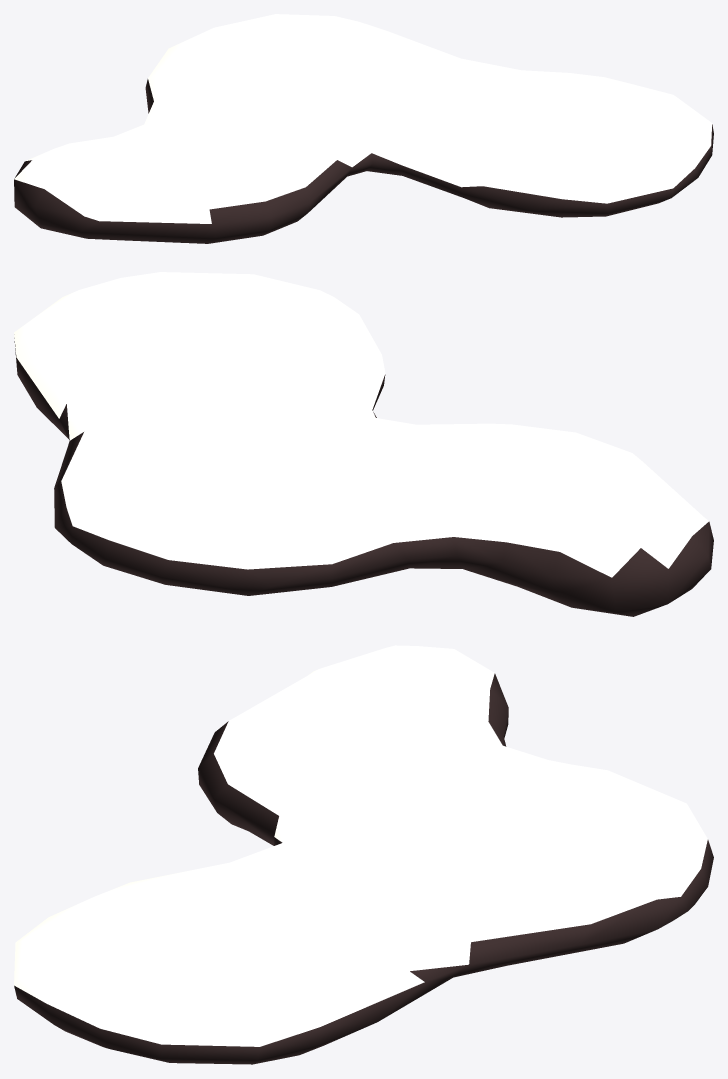
The model's file is puddle_01c.glb.
3 renders of one model, top to bottom at view 1: azimuth 30°, elevation 25°; view 2: azimuth 150°, elevation 25°; view 3: azimuth 270°, elevation 25°, orthographic. The views are drawn at different scales.
Visible parts, largest first — view 1: EA_Puddle_01c; view 2: EA_Puddle_01c; view 3: EA_Puddle_01c.
Boxes of the visible parts, x1,y1,x2,y2 form: EA_Puddle_01c: (14, 14, 713, 243); EA_Puddle_01c: (14, 272, 713, 616); EA_Puddle_01c: (14, 645, 713, 1064).
Bounding box in the file's own units: 5.15 × 0.6679 × 3.95.
